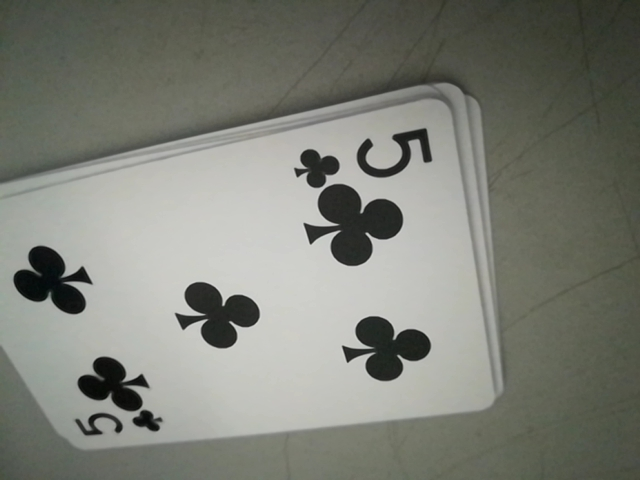mh 5: (285, 114, 440, 186), (71, 402, 167, 445)
